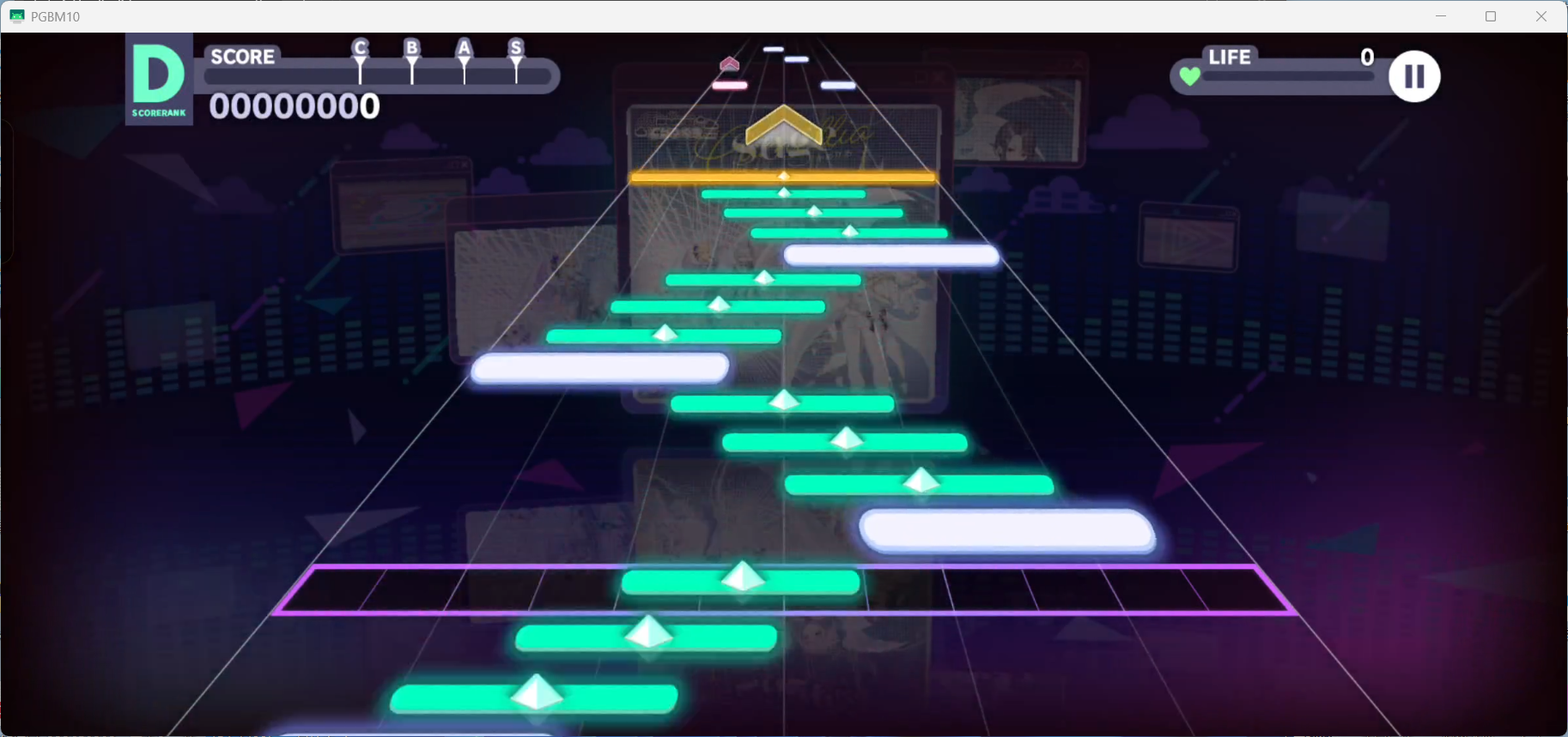flick: (745, 103, 823, 148), (720, 55, 738, 71)
sweep: (389, 671, 678, 715), (515, 613, 779, 653), (784, 466, 1053, 496), (622, 561, 860, 594), (722, 426, 966, 452), (546, 323, 782, 346), (670, 392, 896, 414), (611, 294, 824, 314), (666, 269, 861, 287), (631, 171, 936, 182), (751, 222, 948, 237), (724, 205, 903, 219), (702, 186, 866, 199)
tap: (860, 508, 1156, 553), (470, 350, 728, 386), (784, 243, 1000, 267), (711, 81, 747, 90), (821, 81, 855, 89), (784, 56, 808, 63), (763, 46, 784, 51)
